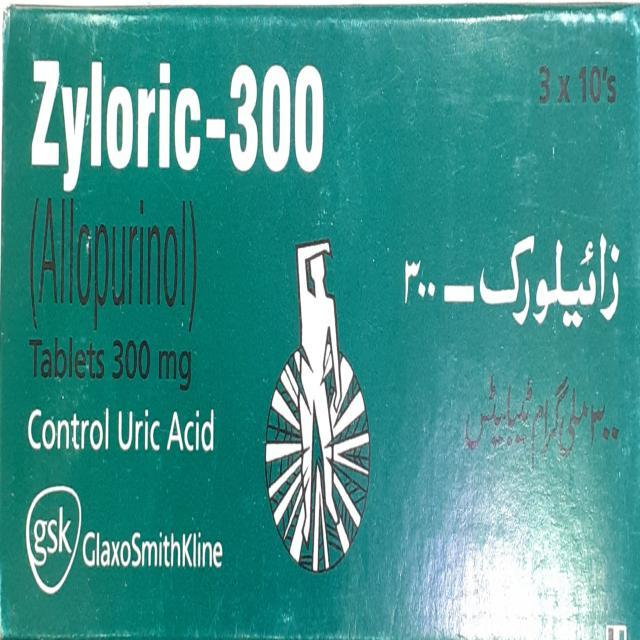drug-name: (30, 55, 327, 192)
